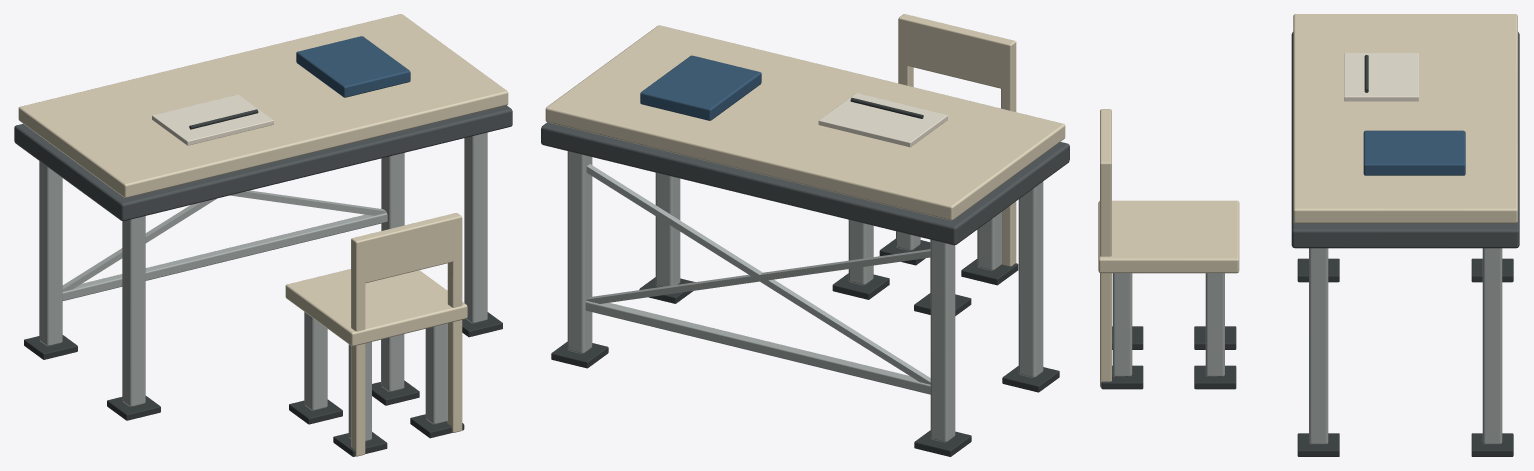
The model's file is canal-boats-and-lock-operations-canal-boats-and-lock-o-889a1e68__31661.glb.
3 views of the same model, side by side, from view 1: azimuth 30°, elevation 25°; view 2: azimuth 150°, elevation 25°; view 3: azimuth 270°, elevation 25° (orthographic). The views are drawn at different scales.
Visible parts, largest first — view 1: canal-boats-and-lock-operations-keepers-recording-desk; view 2: canal-boats-and-lock-operations-keepers-recording-desk; view 3: canal-boats-and-lock-operations-keepers-recording-desk.
Part boxes in pixels (x1,y1,x2,y2): canal-boats-and-lock-operations-keepers-recording-desk: [14, 14, 512, 456]; canal-boats-and-lock-operations-keepers-recording-desk: [541, 14, 1069, 456]; canal-boats-and-lock-operations-keepers-recording-desk: [1098, 14, 1519, 456].
Size of the model in its own units: 1.58 by 0.965 by 1.4.
